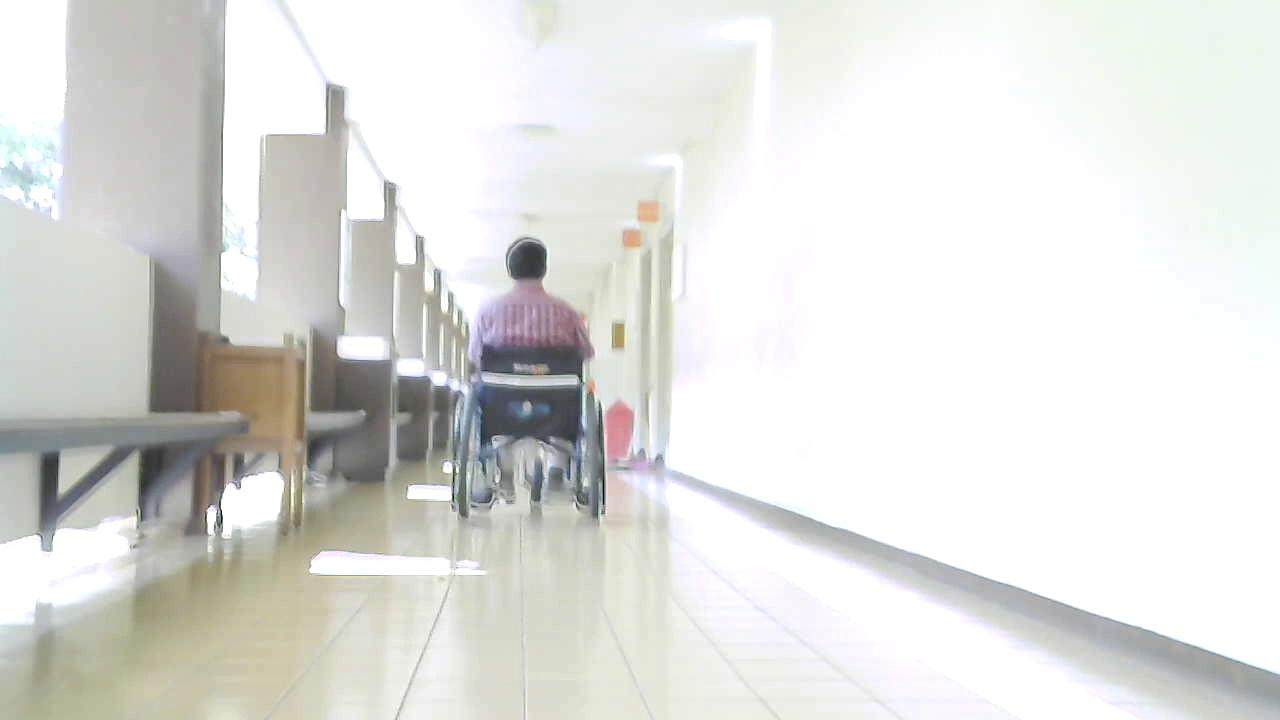person: (466, 238, 598, 513)
wheelchair: (440, 334, 627, 536)
